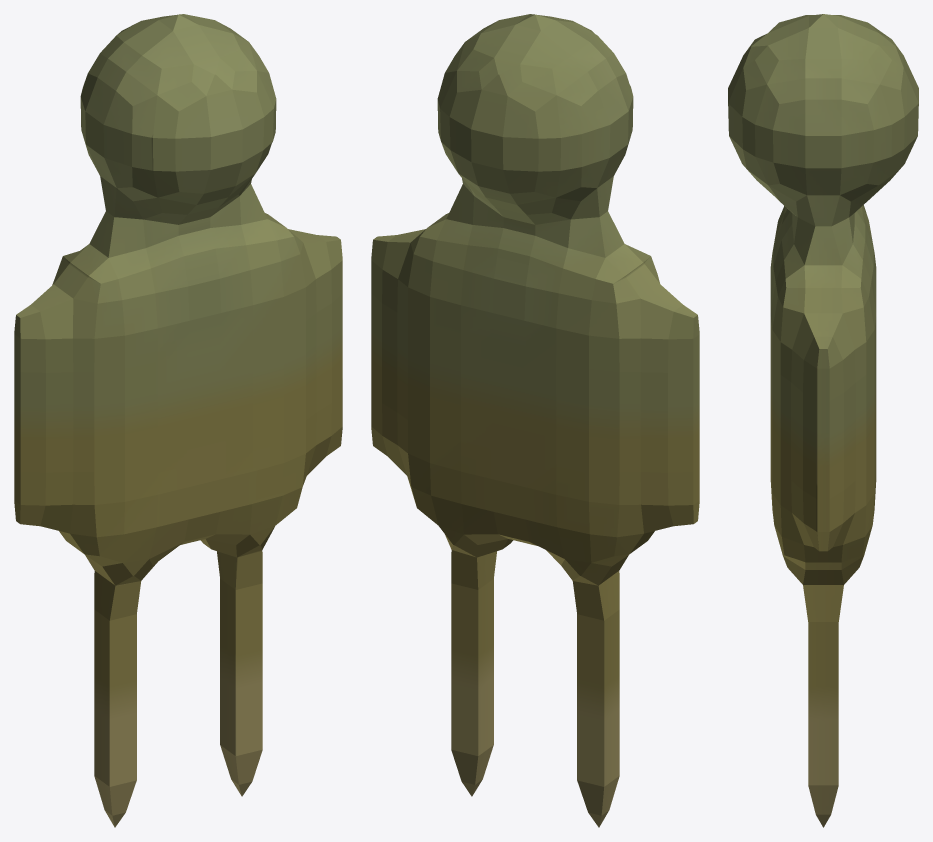
File: zombie.glb
3 views of the same model, side by side, from view 1: azimuth 30°, elevation 25°; view 2: azimuth 150°, elevation 25°; view 3: azimuth 270°, elevation 25° (orthographic).
Parts seen in each view (by area): view 1: geometry_0; view 2: geometry_0; view 3: geometry_0.
Boxes of the visible parts, <box> form: geometry_0: <box>14,14,342,827</box>; geometry_0: <box>371,14,699,827</box>; geometry_0: <box>728,14,918,827</box>.
Size of the model in its own units: 0.4226 by 1 by 0.2207.
Materials: 1 (1 with a texture image).
